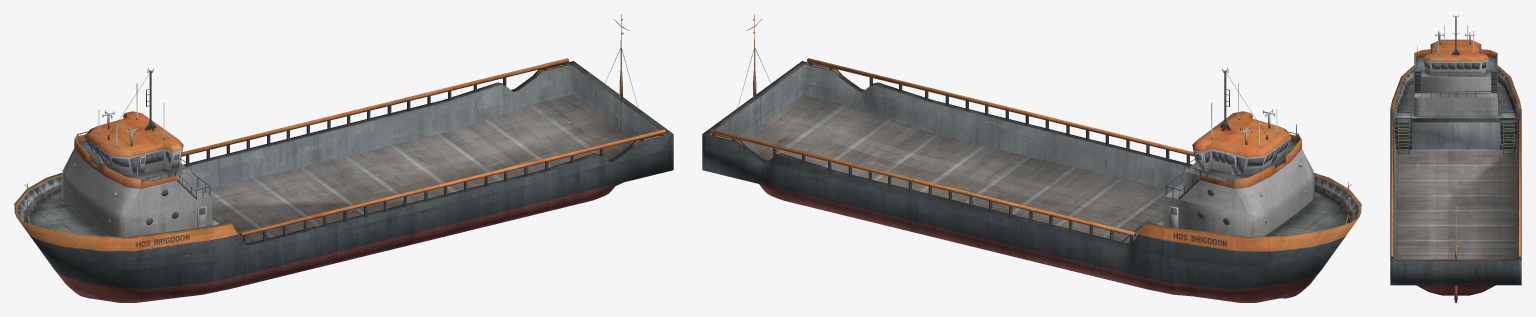
File: CargoG_HOSBrigadoon.glb
3 views of the same model, side by side, from view 1: azimuth 30°, elevation 25°; view 2: azimuth 150°, elevation 25°; view 3: azimuth 270°, elevation 25° (orthographic). The views are drawn at different scales.
Parts seen in each view (by area): view 1: HOS_Greystone_SS_01, HOS_Decking_01, HOS_Windows_01; view 2: HOS_Greystone_SS_01, HOS_Decking_01, HOS_Windows_01; view 3: HOS_Greystone_SS_01, HOS_Decking_01, Stairs, HOS_Windows_01, Mast_Rear.
Boxes of the visible parts, x1,y1,x2,y2 form: HOS_Greystone_SS_01: (14, 58, 673, 302); HOS_Decking_01: (28, 141, 219, 236); HOS_Windows_01: (86, 140, 183, 175); HOS_Greystone_SS_01: (702, 58, 1361, 302); HOS_Decking_01: (1156, 141, 1347, 236); HOS_Windows_01: (1193, 139, 1290, 175); HOS_Greystone_SS_01: (1390, 15, 1521, 302); HOS_Decking_01: (1394, 56, 1517, 149); Stairs: (1398, 116, 1514, 154); HOS_Windows_01: (1423, 49, 1488, 72); Mast_Rear: (1434, 206, 1476, 260).
Size of the model in its own units: 18.31 by 6.13 by 5.24.
Materials: 1 (1 with a texture image).
